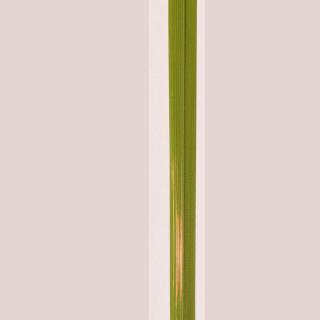Hawar-Daun: (165, 162, 197, 298)
